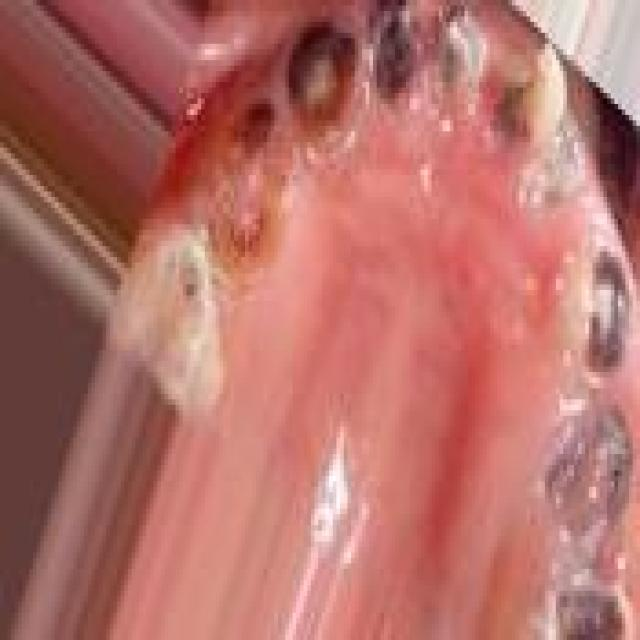caries: (529, 389, 634, 577), (197, 91, 292, 281), (498, 36, 590, 215), (553, 222, 640, 388), (280, 19, 364, 162), (422, 0, 496, 126), (525, 565, 639, 640), (359, 0, 423, 115), (174, 257, 212, 321)
